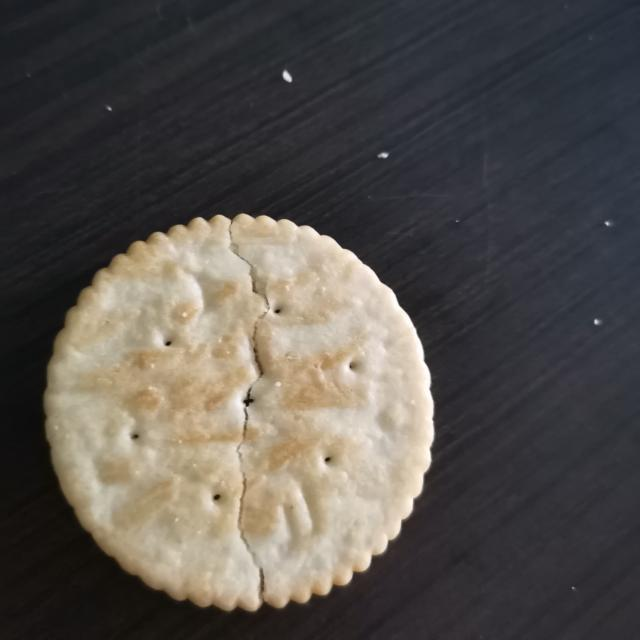Fracture: (207, 214, 288, 607)
